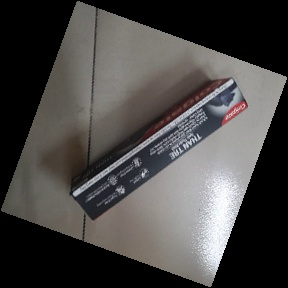Colgate Than: (71, 78, 249, 223)
